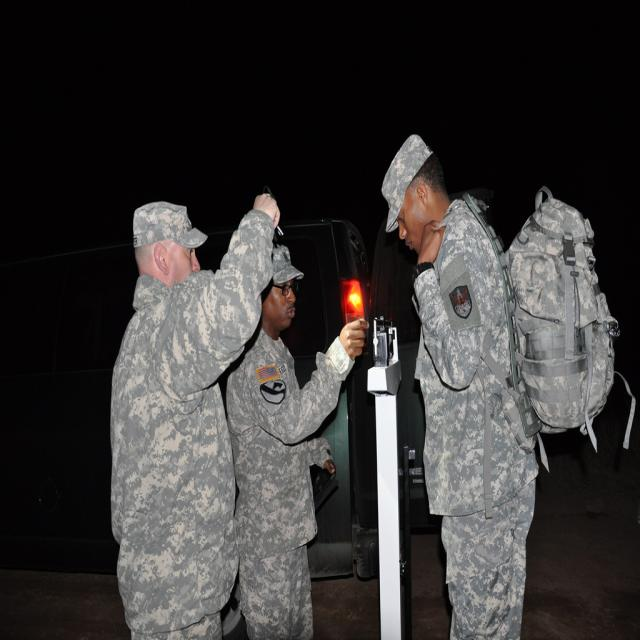backpack: (501, 196, 615, 428)
